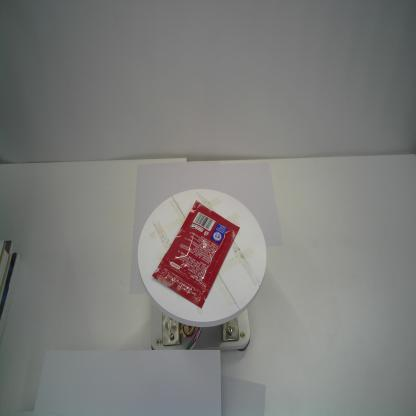Seasoner: (151, 199, 240, 310)
